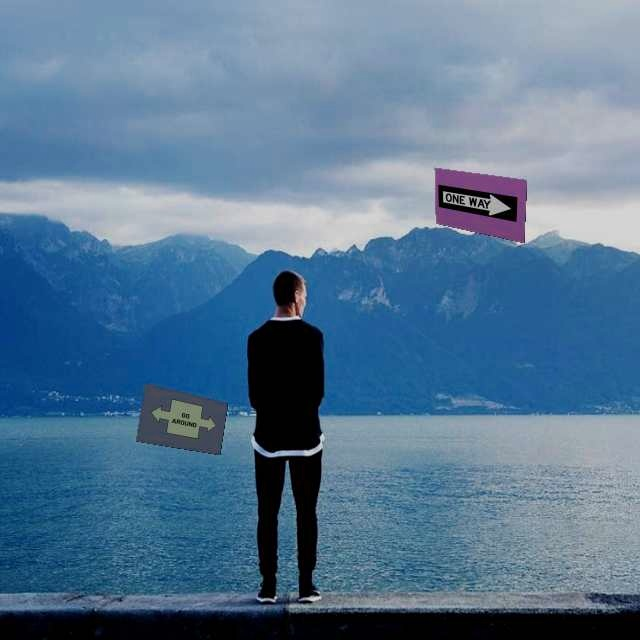GO_AROUND: (148, 394, 219, 443)
ONE_WAY_ right: (436, 185, 518, 222)
